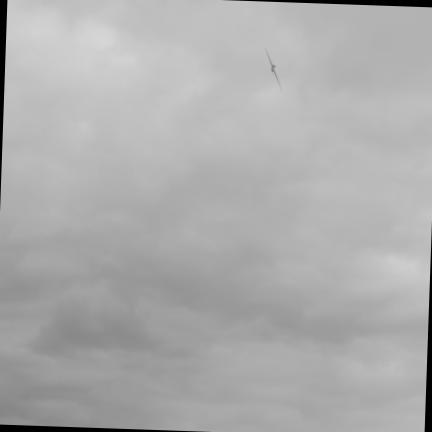Shahed: (264, 48, 282, 91)
